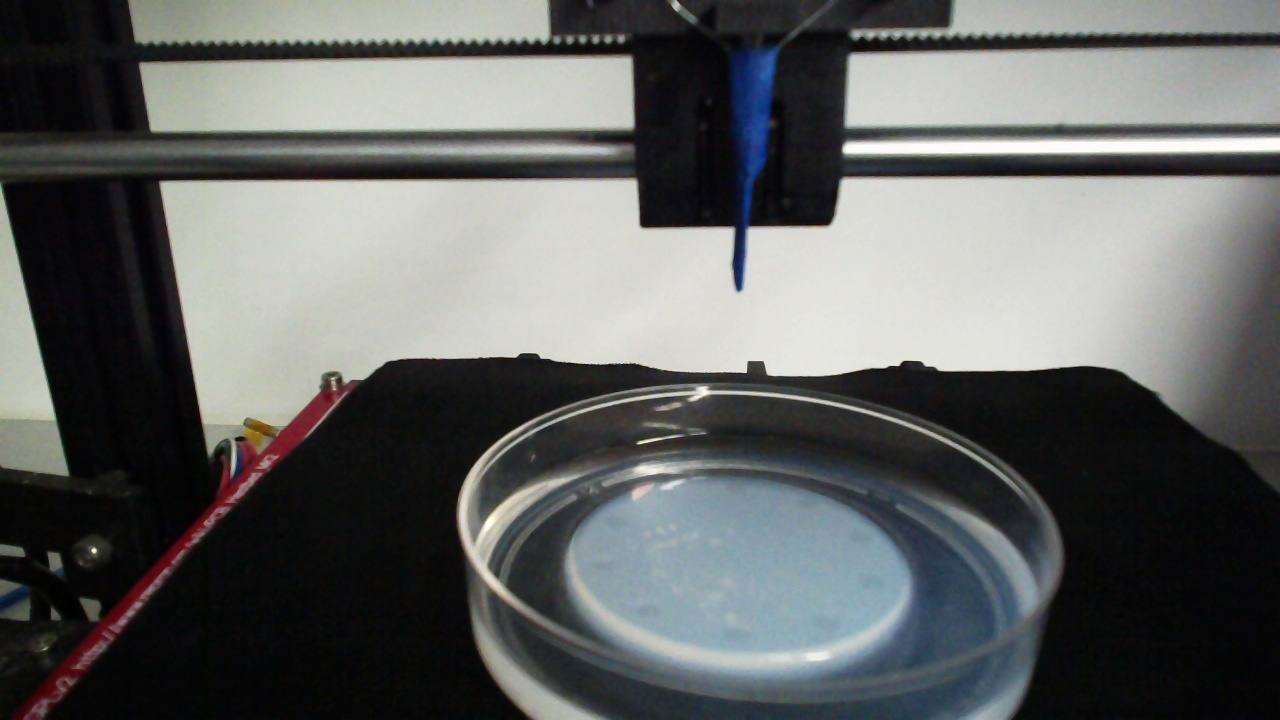groove: (722, 626, 756, 647), (858, 572, 886, 593), (812, 613, 842, 632), (848, 528, 875, 545), (795, 493, 822, 509), (603, 514, 629, 529), (635, 604, 660, 618), (724, 480, 749, 494), (590, 560, 615, 573)
needle: (732, 52, 778, 290)
